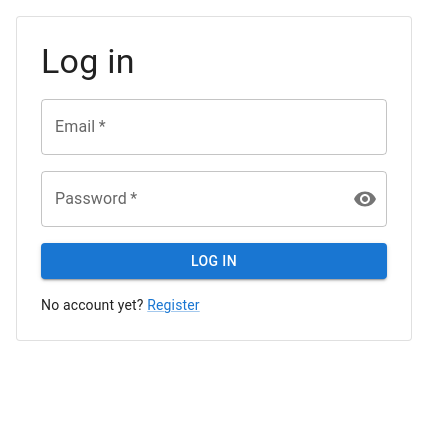
LoginPage › shows the server error when the login fails
Type "me@example.com" into the field labelled "Email *" at [214, 127], box [41,99,387,155]
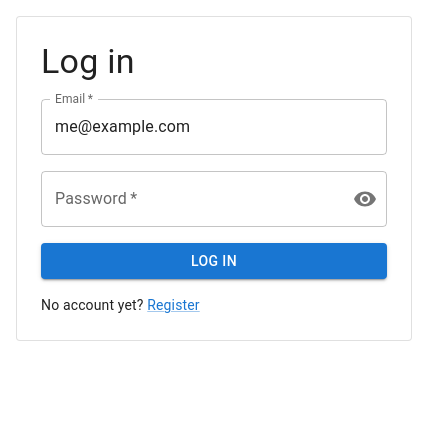
Type "wrong-password" into the password field labelled "Password *" at [189, 199], box [41,171,337,227]
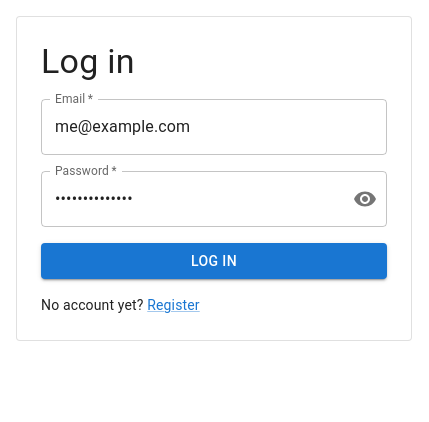
Click the button "Log in" at [214, 261], box [41,243,387,280]
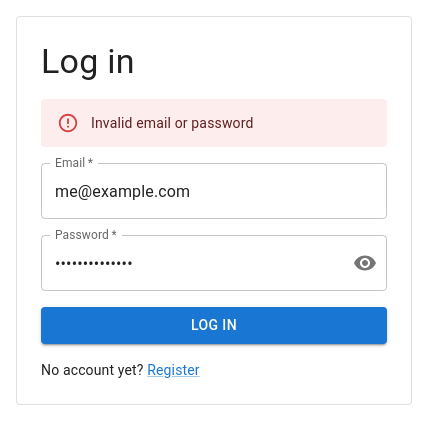
Check: the text "Invalid email or password" is shown, box [91,115,254,131]
